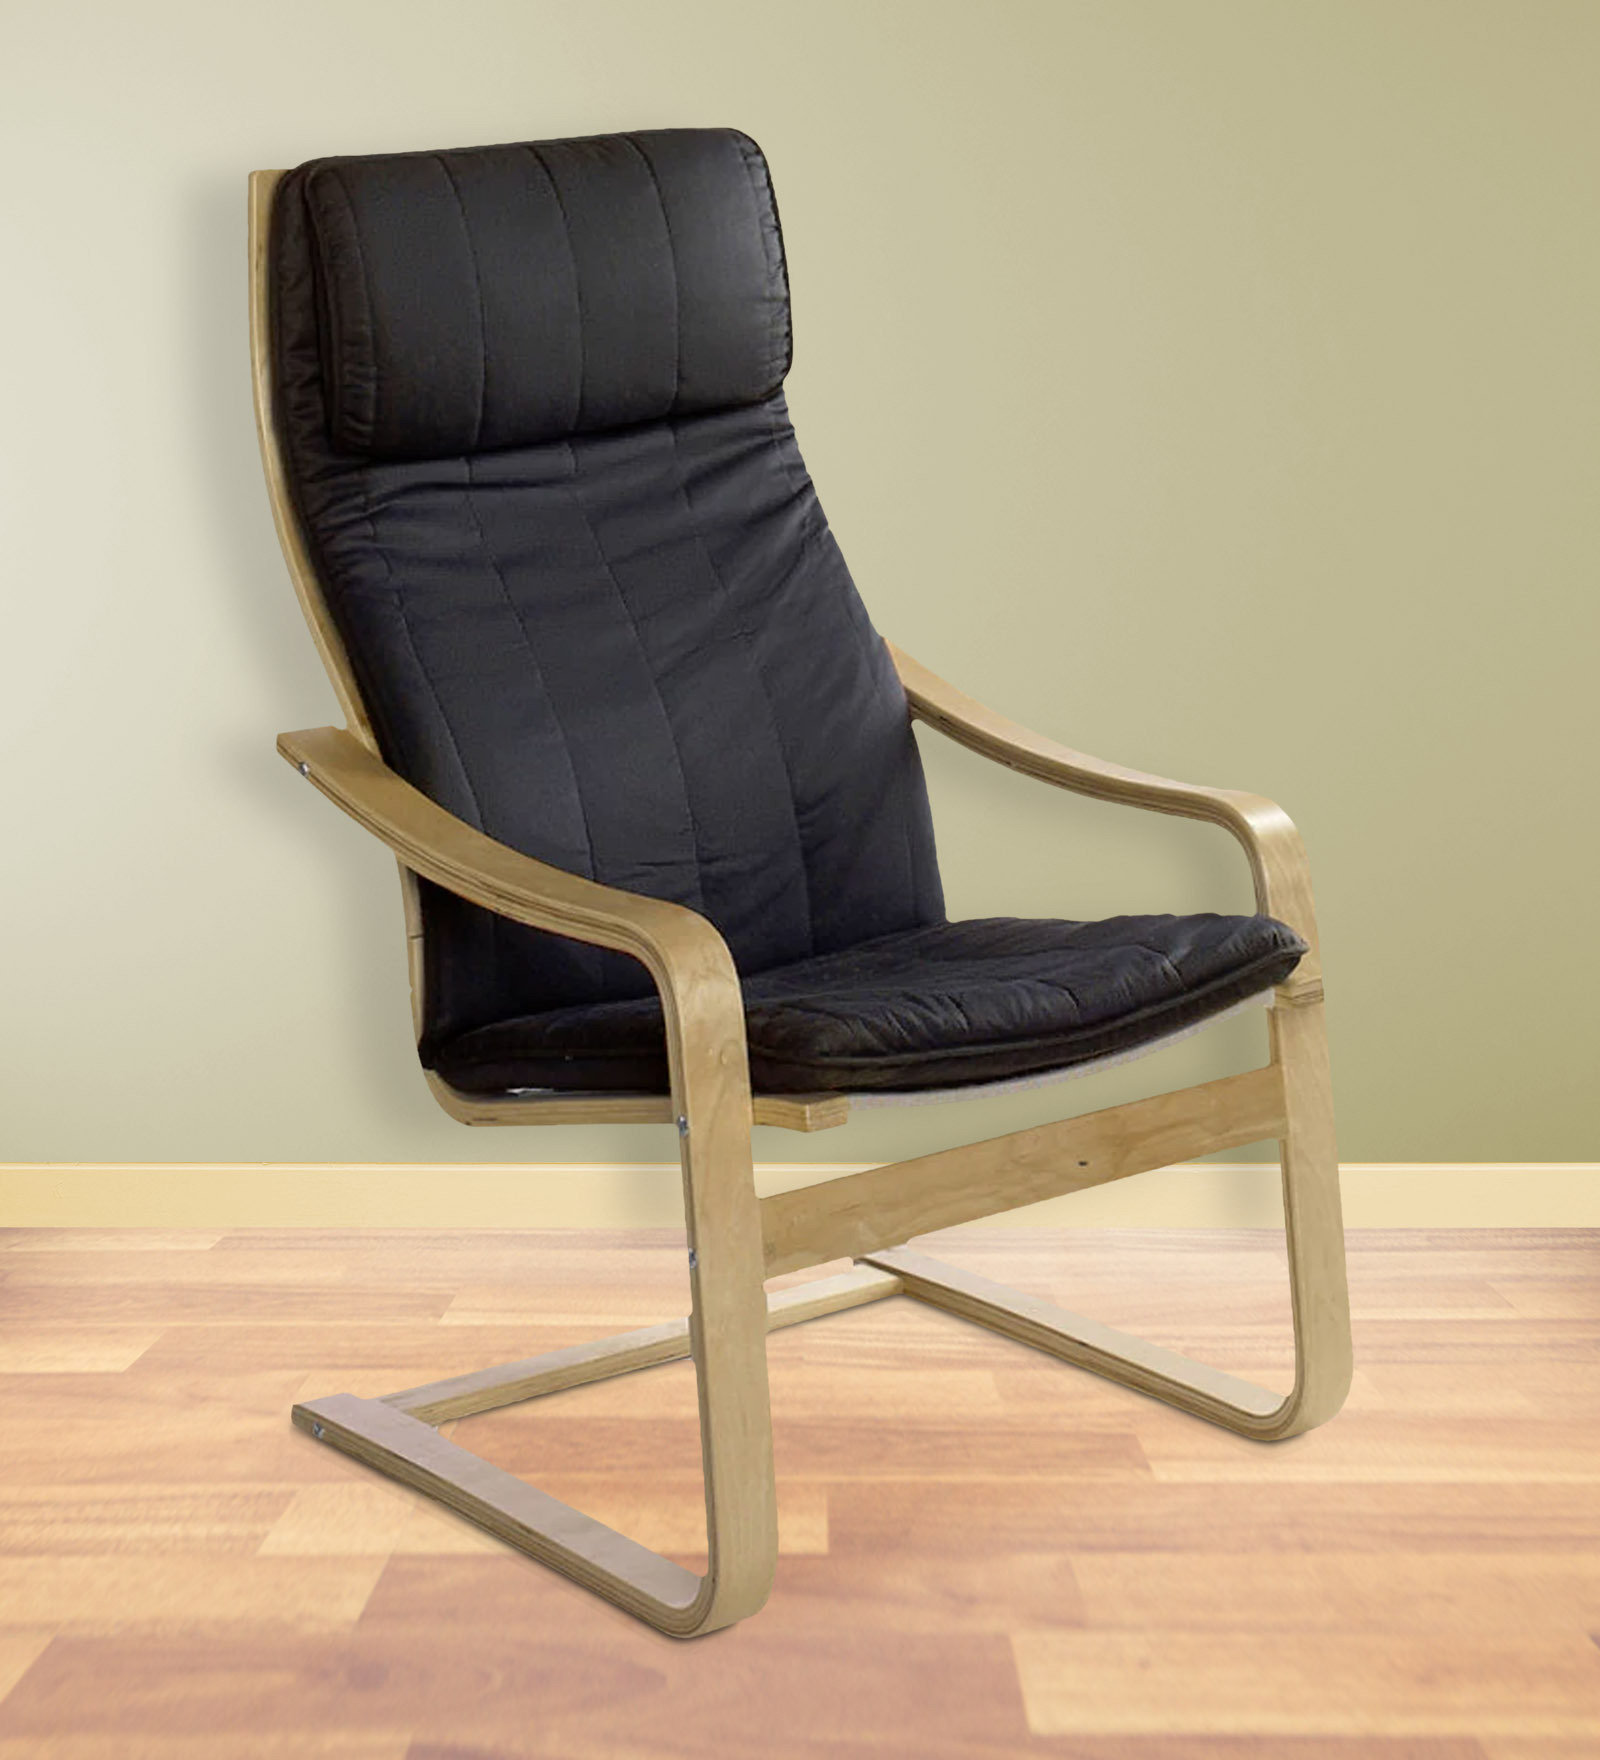Baker Professional Chair in Black Colour by @Home: (187, 117, 1379, 1650)
